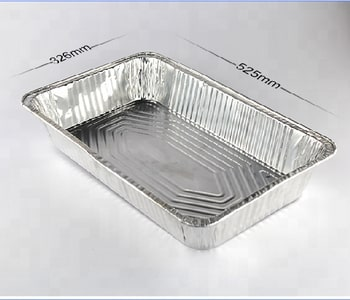metal: (21, 50, 337, 250)
